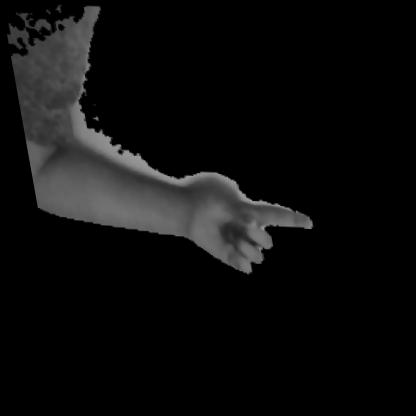one: (130, 117, 347, 297)
